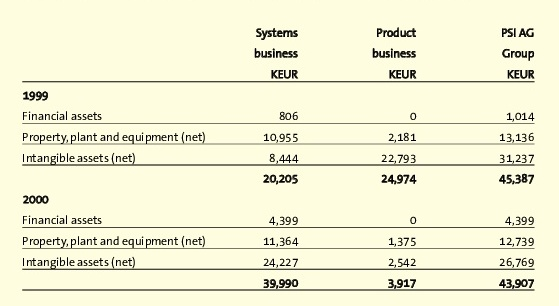table: (0, 0, 559, 306)
